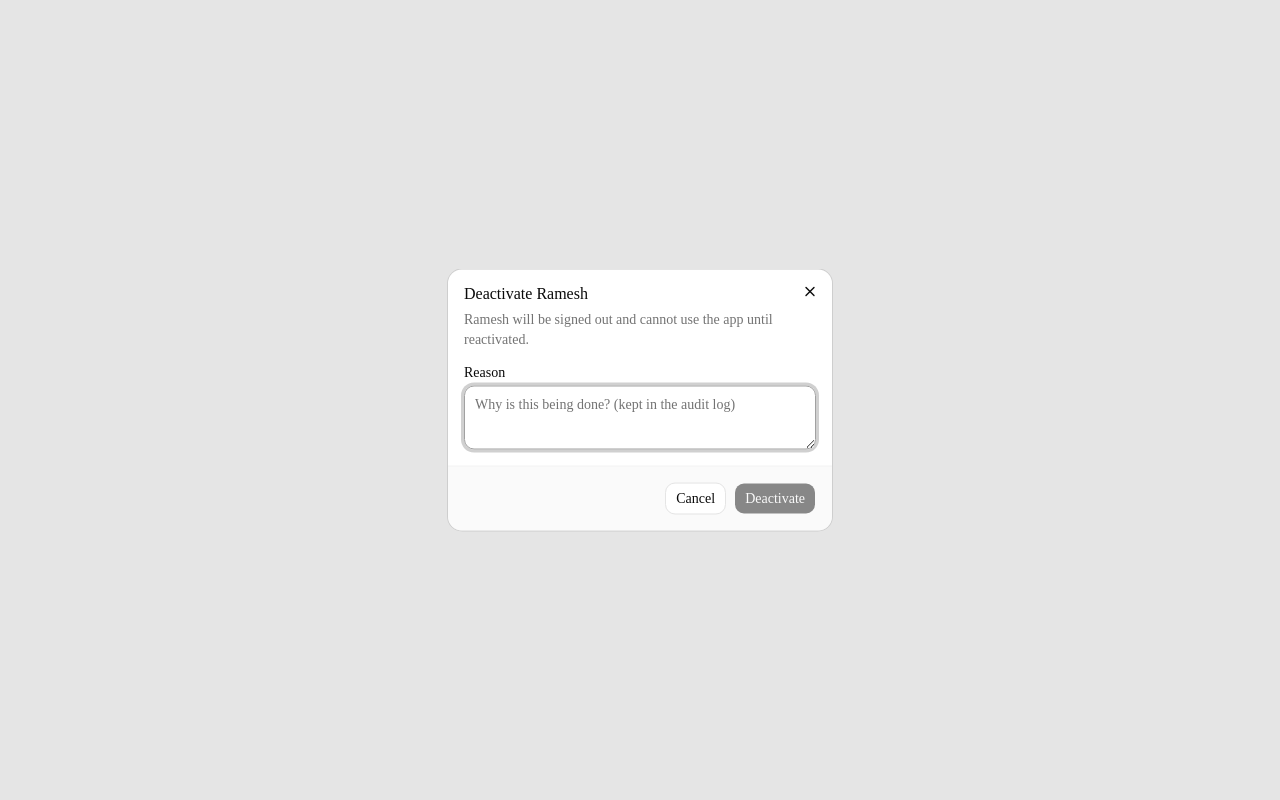
Test: ConfirmReasonDialog › keeps the dialog open and shows the server message on a refusal
This screenshot has width=1280, height=800.
In the text box labelled "Reason": (640, 418) [464,386,816,450], type "Fraud report 42"
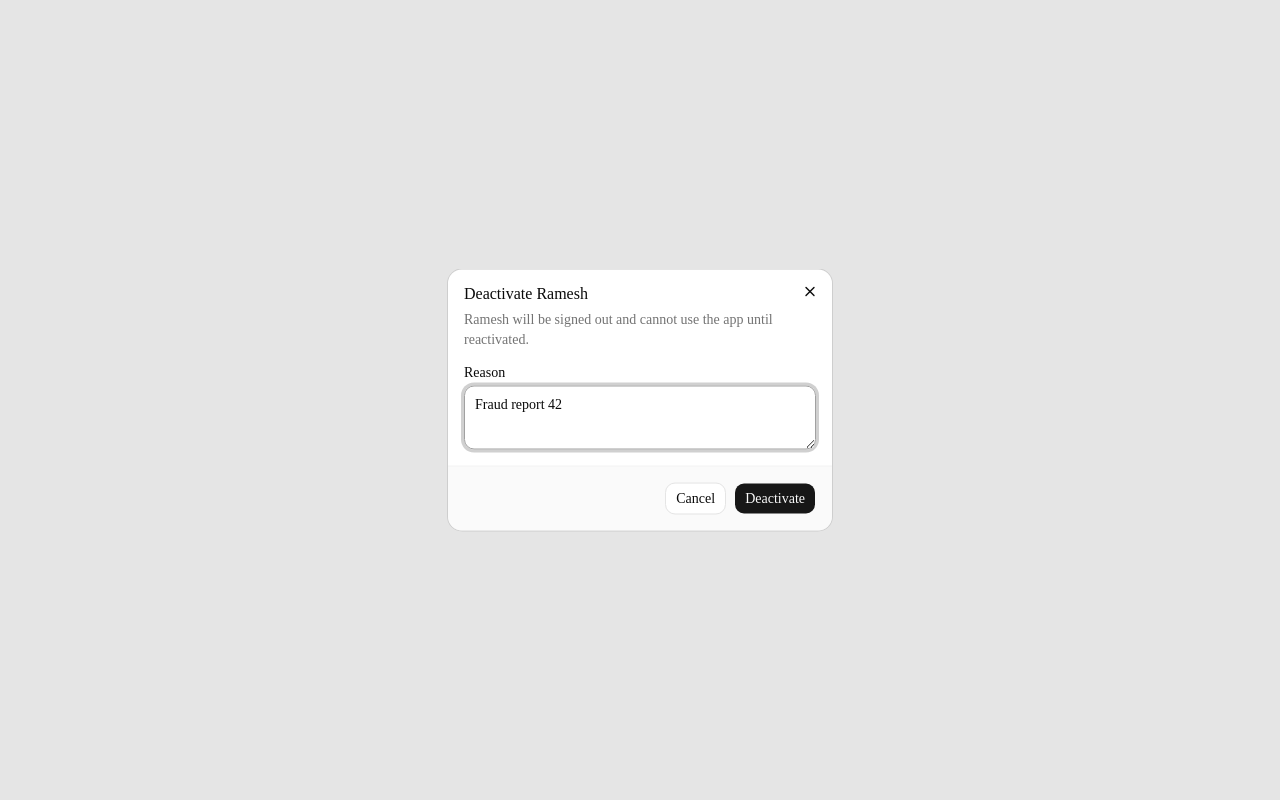
Click the button "Deactivate": (775, 498) [734,482,816,514]
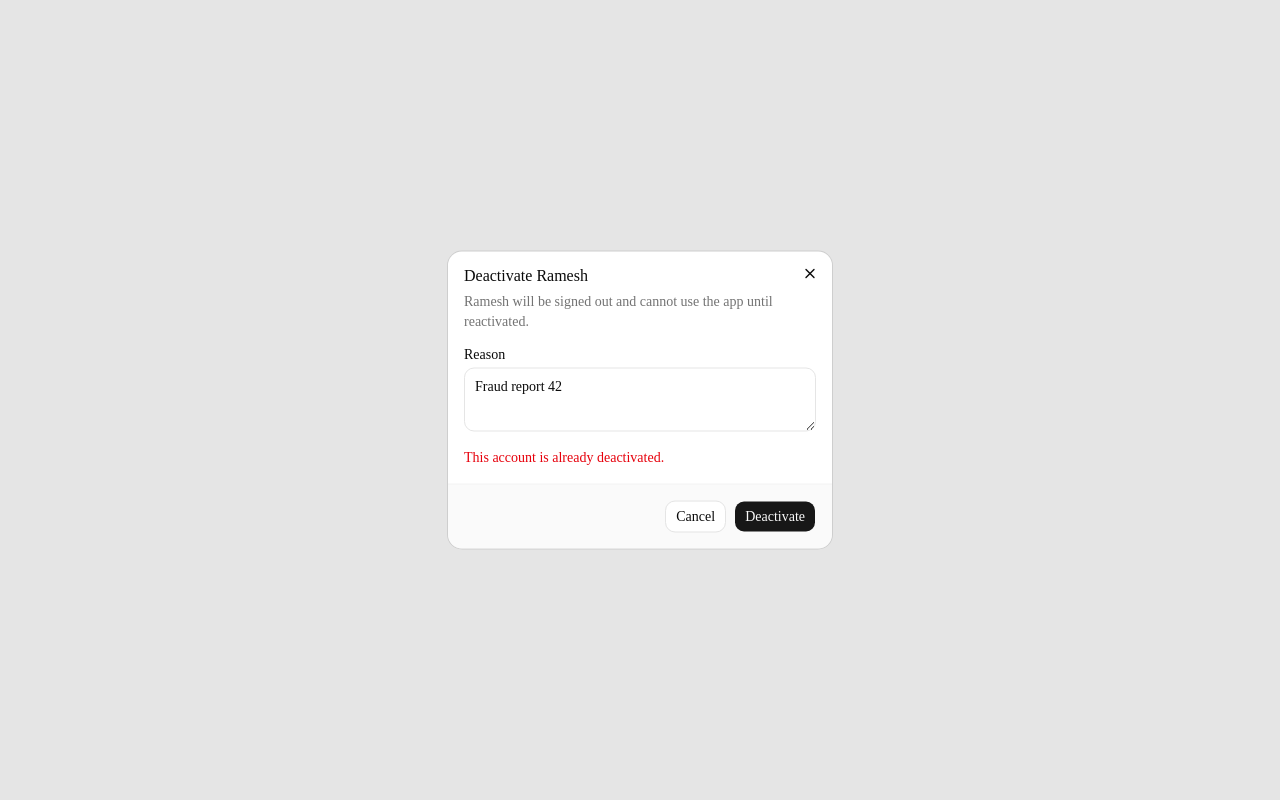
Now the text "This account is already deactivated." is shown, box [464,450,664,464]
